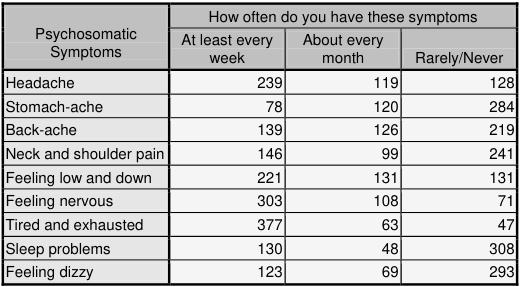table: (4, 4, 513, 280)
table column: (4, 4, 171, 280), (171, 4, 291, 280), (291, 4, 405, 280), (405, 4, 513, 280)
table column header: (4, 4, 513, 68)
table row: (4, 26, 513, 68), (4, 68, 513, 92), (4, 92, 513, 116), (4, 116, 513, 140), (4, 163, 513, 187), (4, 187, 513, 211), (4, 234, 513, 258), (4, 140, 513, 163), (4, 211, 513, 234), (4, 4, 513, 26), (4, 258, 513, 280)
table spanning cell: (4, 4, 171, 68), (171, 4, 513, 26)
